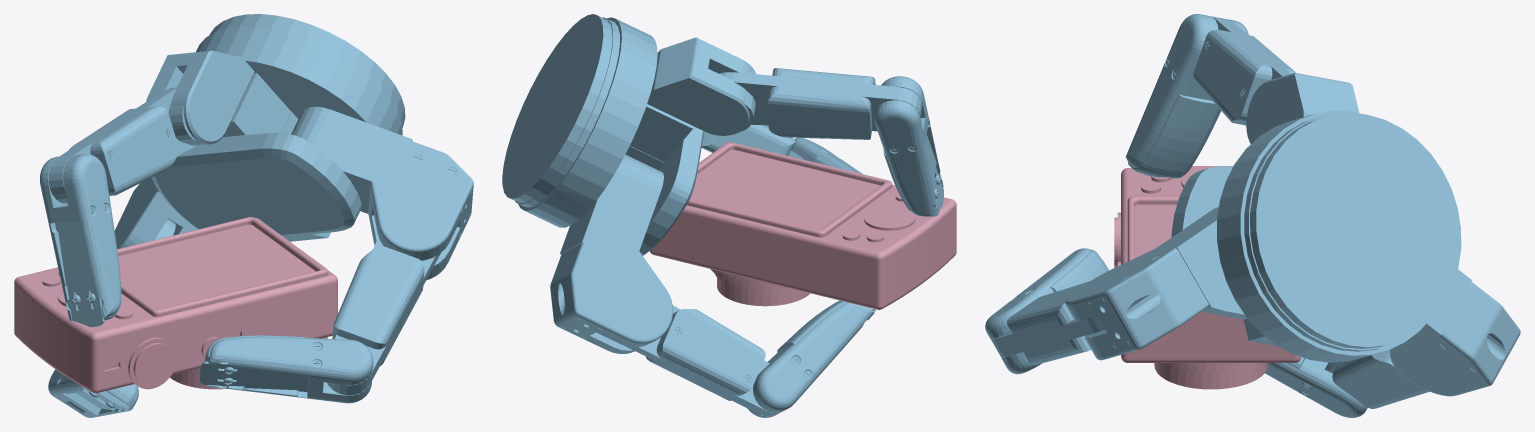
3 views of the same model, side by side, from view 1: azimuth 30°, elevation 25°; view 2: azimuth 150°, elevation 25°; view 3: azimuth 270°, elevation 25° (orthographic). The views are drawn at different scales.
Parts seen in each view (by area): view 1: world; view 2: world; view 3: world.
Boxes of the visible parts, x1=… form: world: x1=14, y1=14, x2=473, y2=417; world: x1=502, y1=14, x2=956, y2=417; world: x1=985, y1=14, x2=1520, y2=417.
Bounding box in the file's own units: 0.1789 × 0.158 × 0.1923.
